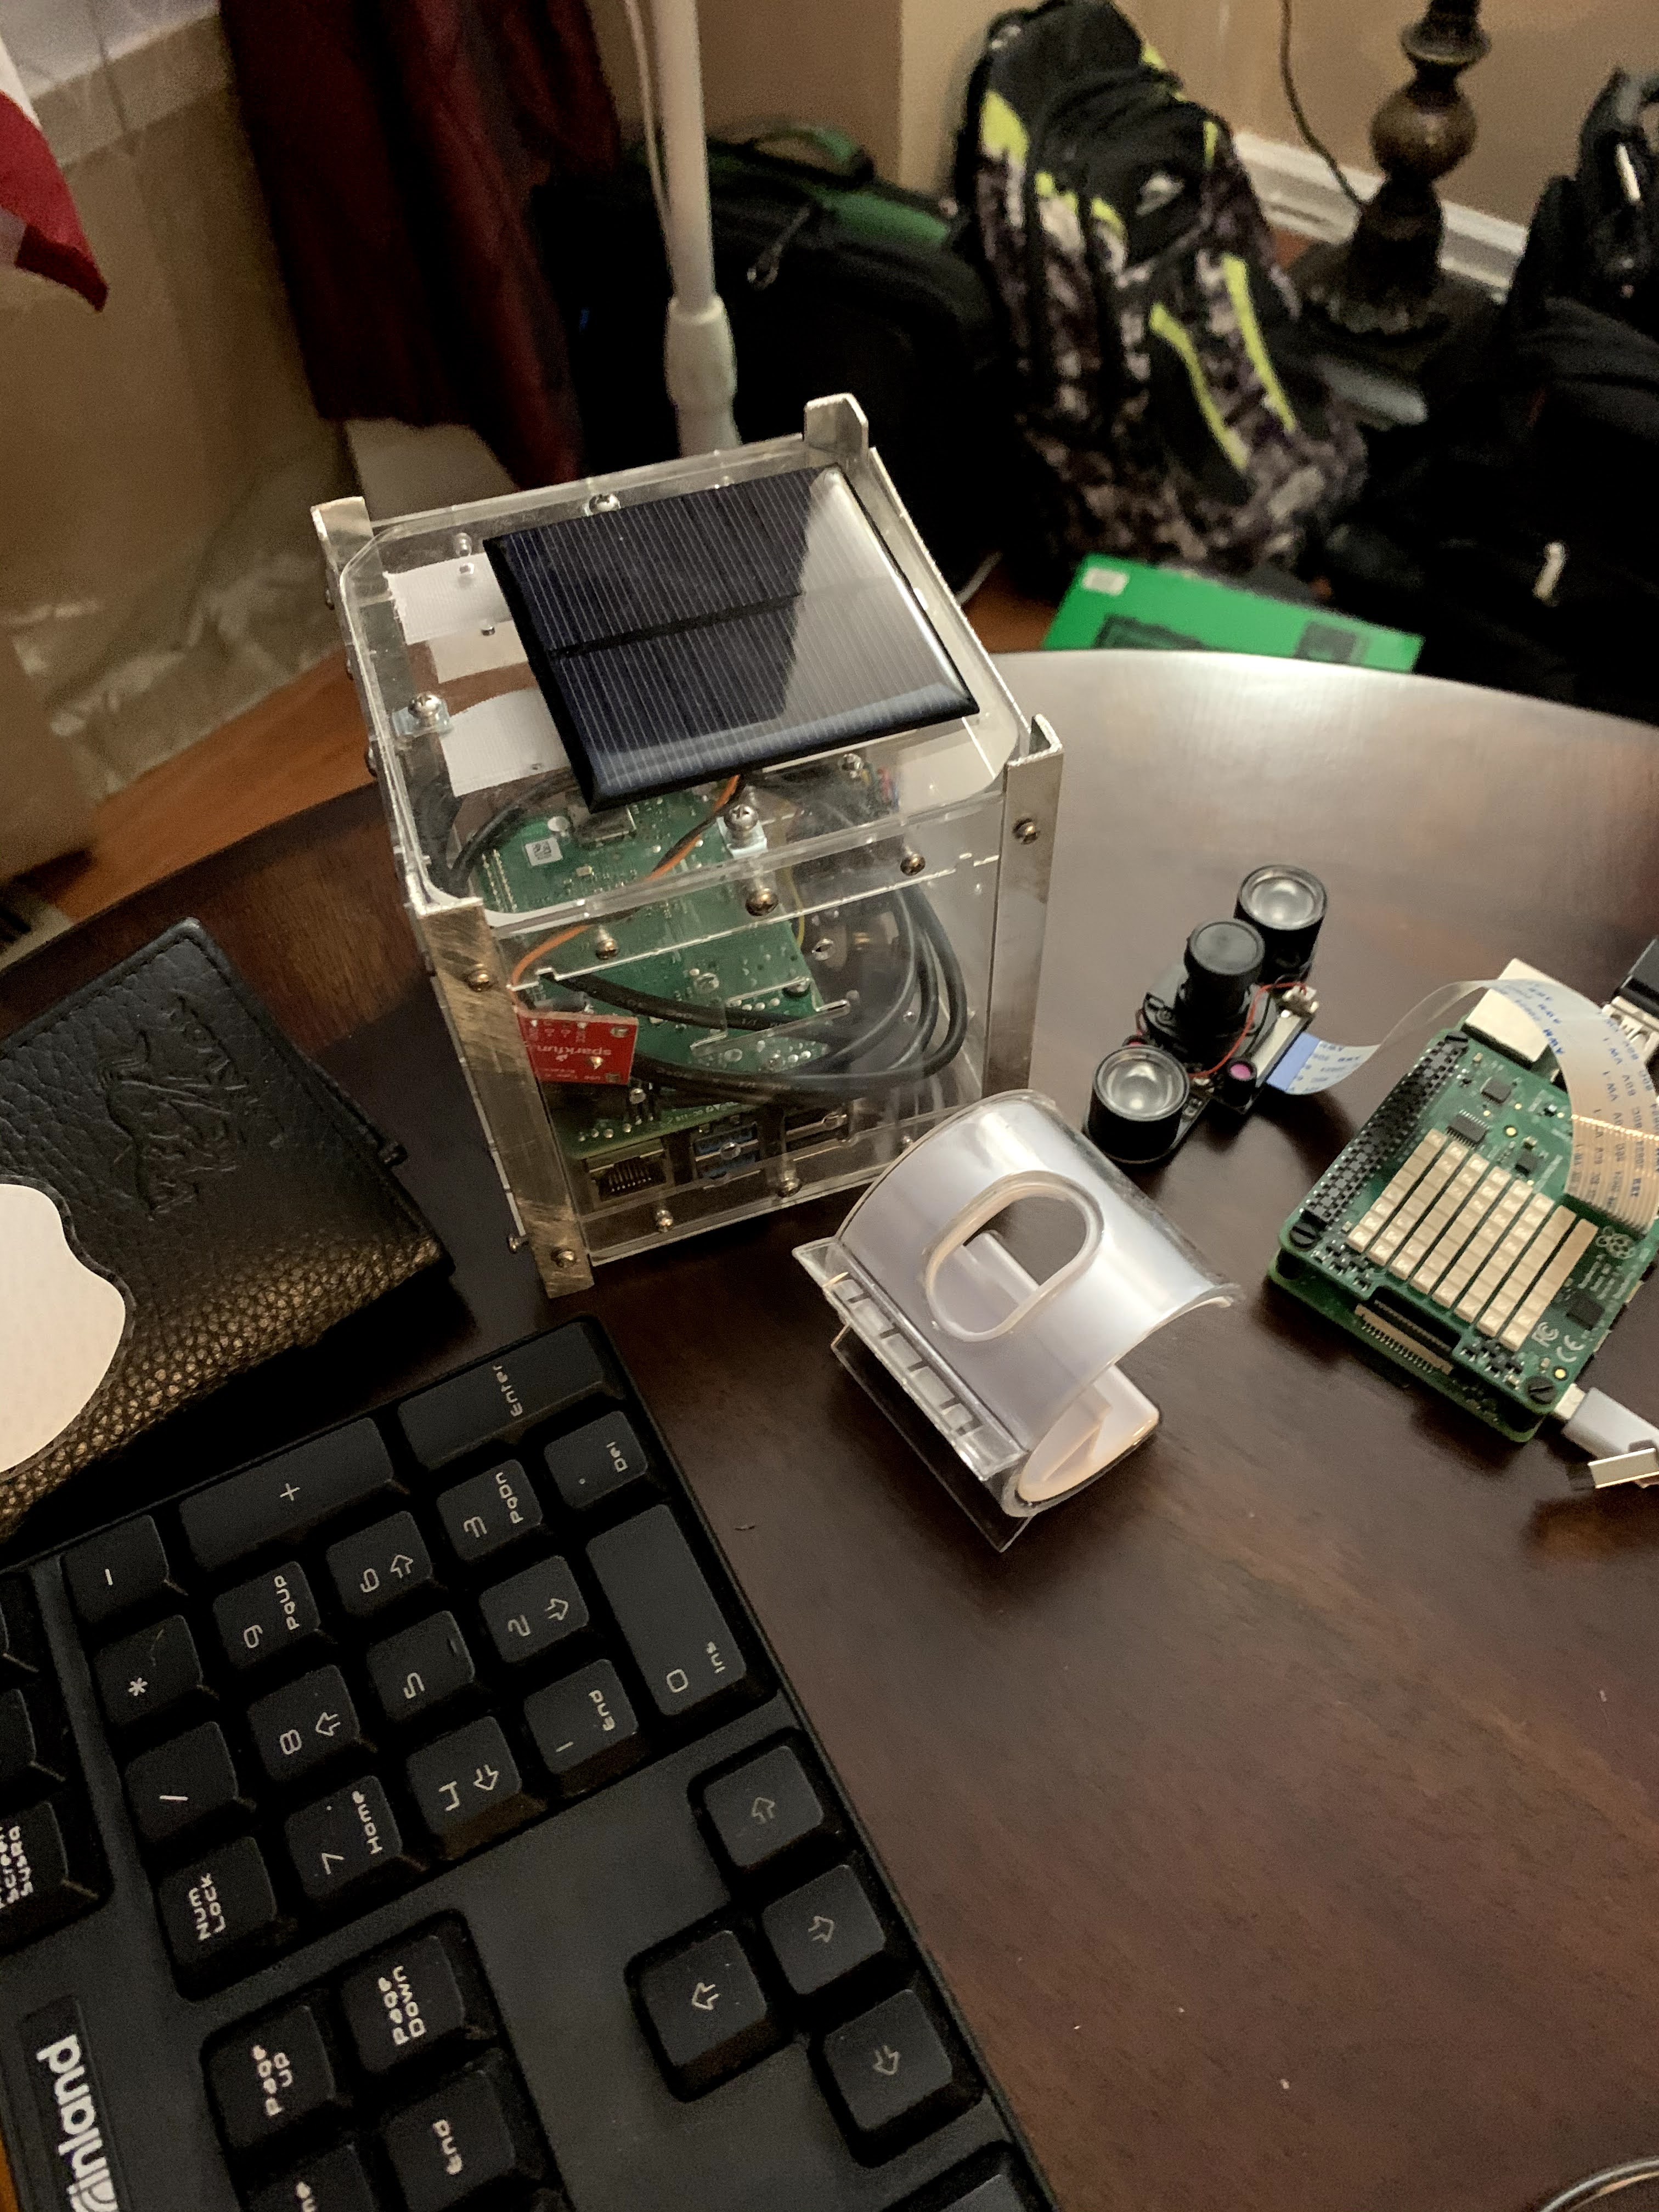Space-debris-cubesat: (293, 383, 1072, 1298)
